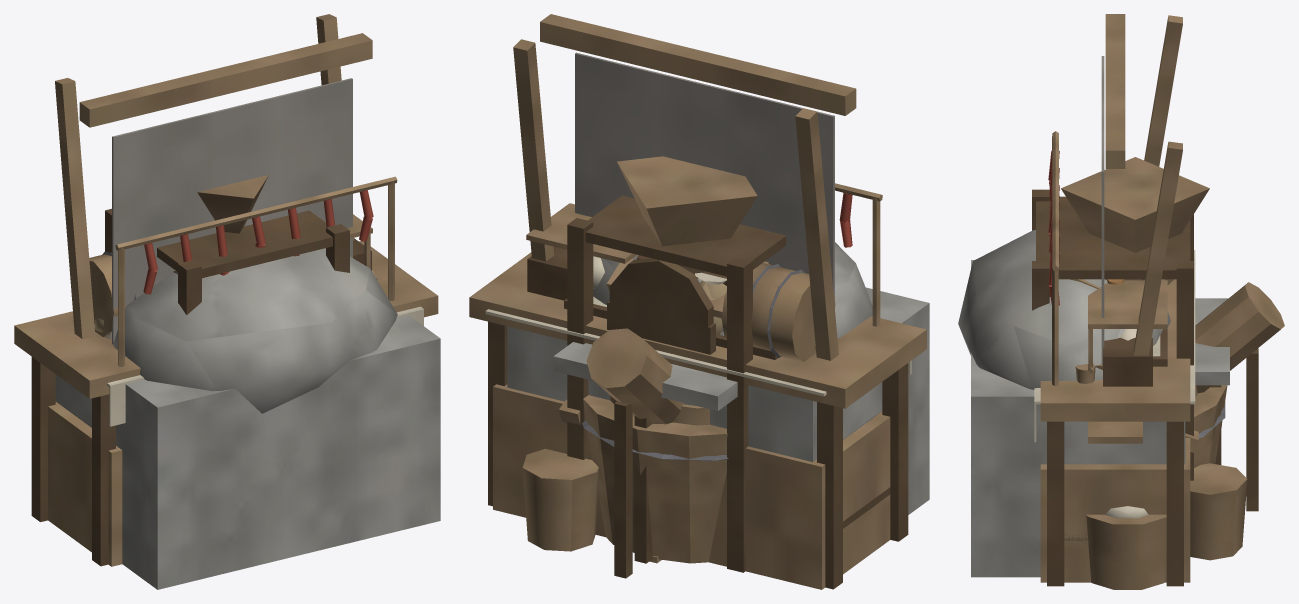
File: crowd-props-workplace-v1.glb
3 views of the same model, side by side, from view 1: azimuth 30°, elevation 25°; view 2: azimuth 150°, elevation 25°; view 3: azimuth 270°, elevation 25° (orthographic). The views are drawn at different scales.
Visible parts, largest first — view 1: prop_bakehouse_oven, prop_loom, prop_workbench, prop_mill_hopper, prop_fulling_trough, prop_goods_sausages, prop_goods_ale, prop_market_trestle; view 2: prop_loom, prop_mill_hopper, prop_bakehouse_oven, prop_fulling_trough, prop_workbench, prop_brew_tub, prop_hide_beam, prop_goods_ale, prop_market_trestle, prop_goods_wares, prop_goods_sausages, prop_goods_eggs (+1 smaller); view 3: prop_bakehouse_oven, prop_mill_hopper, prop_workbench, prop_loom, prop_fulling_trough, prop_hide_beam, prop_washing_board, prop_goods_eggs, prop_goods_wares, prop_goods_sausages, prop_brew_tub, prop_sawhorse (+2 smaller).
Part boxes in pixels (bbox=[...]): prop_bakehouse_oven: bbox=[55, 248, 440, 589]; prop_loom: bbox=[55, 14, 372, 344]; prop_workbench: bbox=[14, 241, 438, 566]; prop_mill_hopper: bbox=[105, 175, 349, 314]; prop_fulling_trough: bbox=[48, 401, 122, 566]; prop_goods_sausages: bbox=[115, 176, 397, 366]; prop_goods_ale: bbox=[89, 251, 377, 336]; prop_market_trestle: bbox=[107, 306, 423, 426]; prop_loom: bbox=[513, 14, 856, 360]; prop_mill_hopper: bbox=[522, 156, 786, 572]; prop_bakehouse_oven: bbox=[507, 242, 929, 514]; prop_fulling_trough: bbox=[493, 384, 890, 589]; prop_workbench: bbox=[469, 252, 926, 589]; prop_brew_tub: bbox=[582, 395, 728, 563]; prop_hide_beam: bbox=[586, 328, 683, 578]; prop_goods_ale: bbox=[721, 263, 835, 361]; prop_market_trestle: bbox=[485, 309, 911, 402]; prop_goods_wares: bbox=[527, 246, 777, 359]; prop_goods_sausages: bbox=[835, 183, 882, 326]; prop_goods_eggs: bbox=[526, 203, 636, 289]; prop_bakehouse_oven: bbox=[958, 230, 1229, 577]; prop_mill_hopper: bbox=[1032, 157, 1247, 560]; prop_workbench: bbox=[1040, 279, 1190, 586]; prop_loom: bbox=[1101, 14, 1182, 365]; prop_fulling_trough: bbox=[1040, 438, 1190, 582]; prop_hide_beam: bbox=[1195, 282, 1284, 511]; prop_washing_board: bbox=[1086, 506, 1166, 589]; prop_goods_eggs: bbox=[1088, 280, 1167, 381]; prop_goods_wares: bbox=[1103, 329, 1167, 386]; prop_goods_sausages: bbox=[1048, 131, 1059, 385]; prop_brew_tub: bbox=[1194, 385, 1227, 467]; prop_sawhorse: bbox=[1088, 421, 1142, 443].
Size of the model in its own units: 1.65 by 1.98 by 1.31.
Materials: 1 (1 with a texture image).
